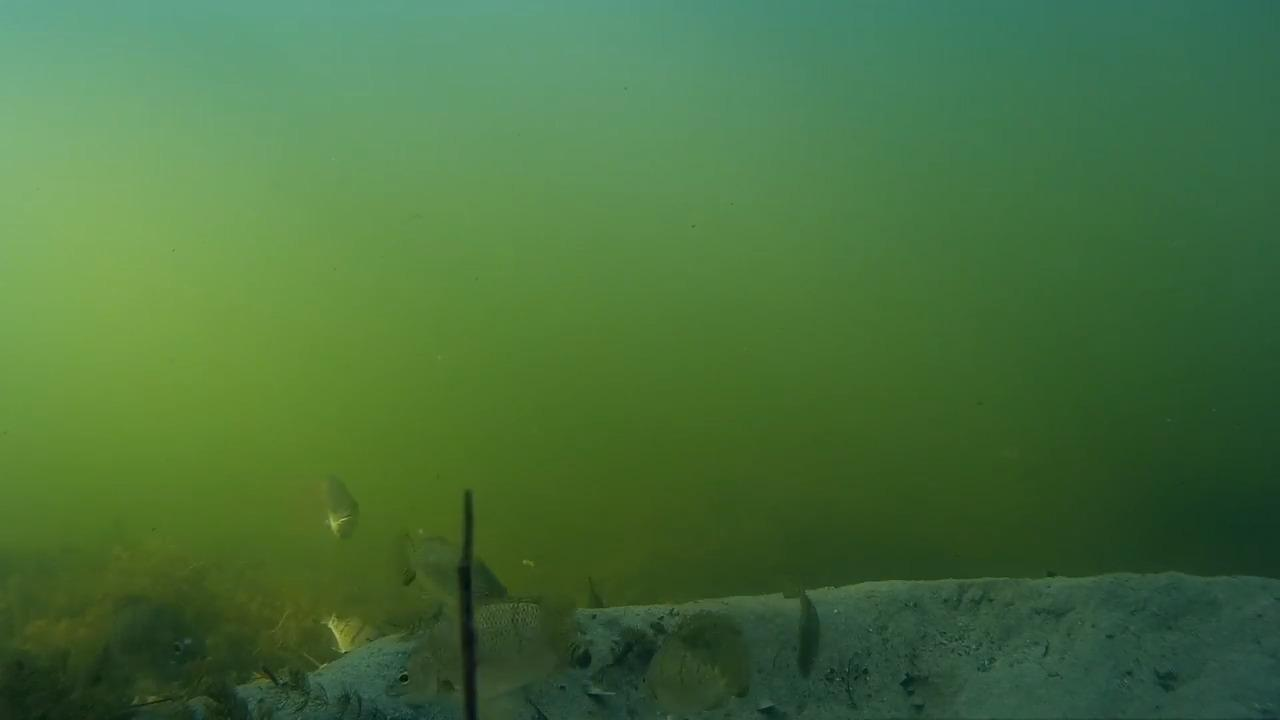Tilapia: (380, 596, 592, 720), (64, 585, 234, 676), (380, 517, 510, 600), (779, 580, 851, 690), (291, 452, 370, 541)
